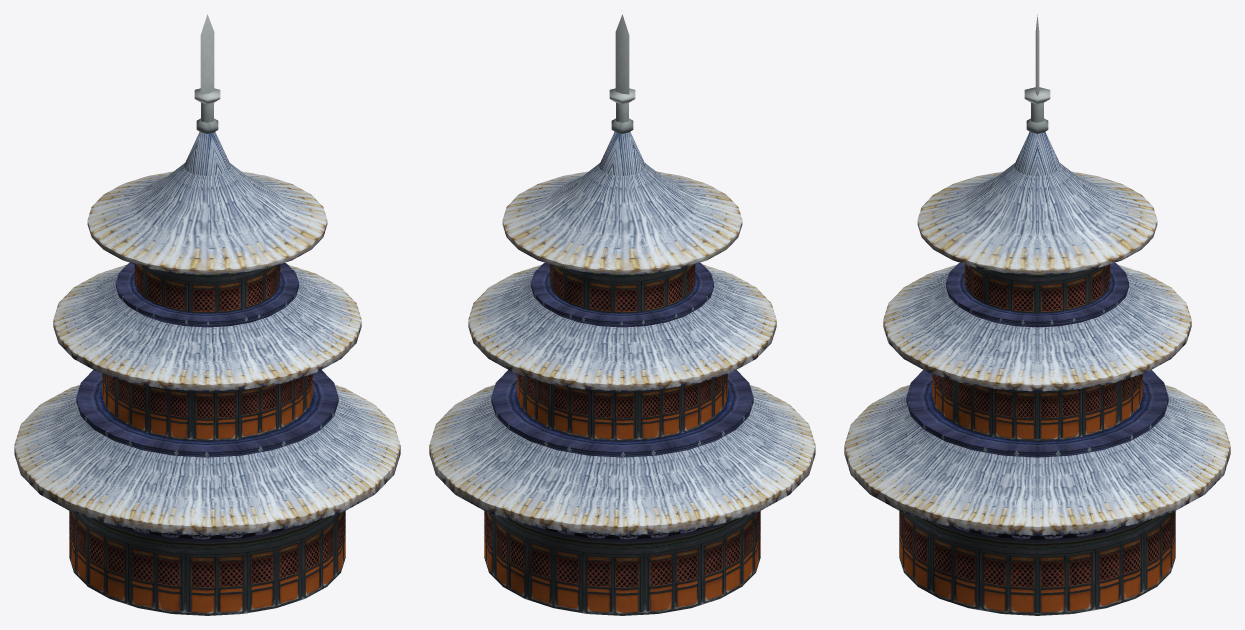
The model's file is jz_jitai_02.FBX.
3 renders of one model, left to right at view 1: azimuth 30°, elevation 25°; view 2: azimuth 150°, elevation 25°; view 3: azimuth 270°, elevation 25°, orthographic.
Visible parts, largest first — view 1: jz_jitai_02; view 2: jz_jitai_02; view 3: jz_jitai_02.
Part boxes in pixels (x1,y1,x2,y2): jz_jitai_02: (14,14,400,615); jz_jitai_02: (429,14,815,615); jz_jitai_02: (844,14,1230,615).
Bounding box in the file's own units: 1293 × 2006 × 1293.
